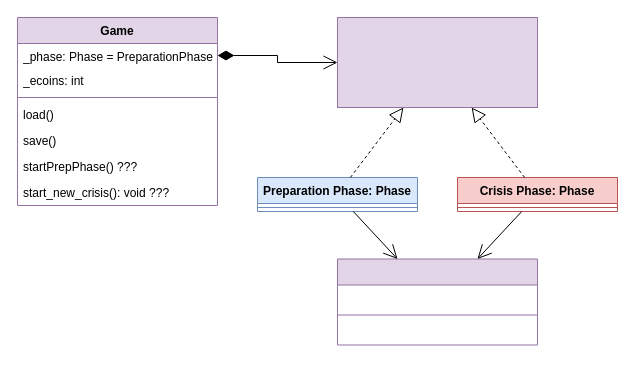
Image size: 635x365. Some labels were removed from this diagram. The shapes that lost their labels are listed below. From the top down, each one's centre as x and y in pixels, then its label:
the point at 437,62: <<Interface>> Phase
the point at 437,301: Settings Screen
